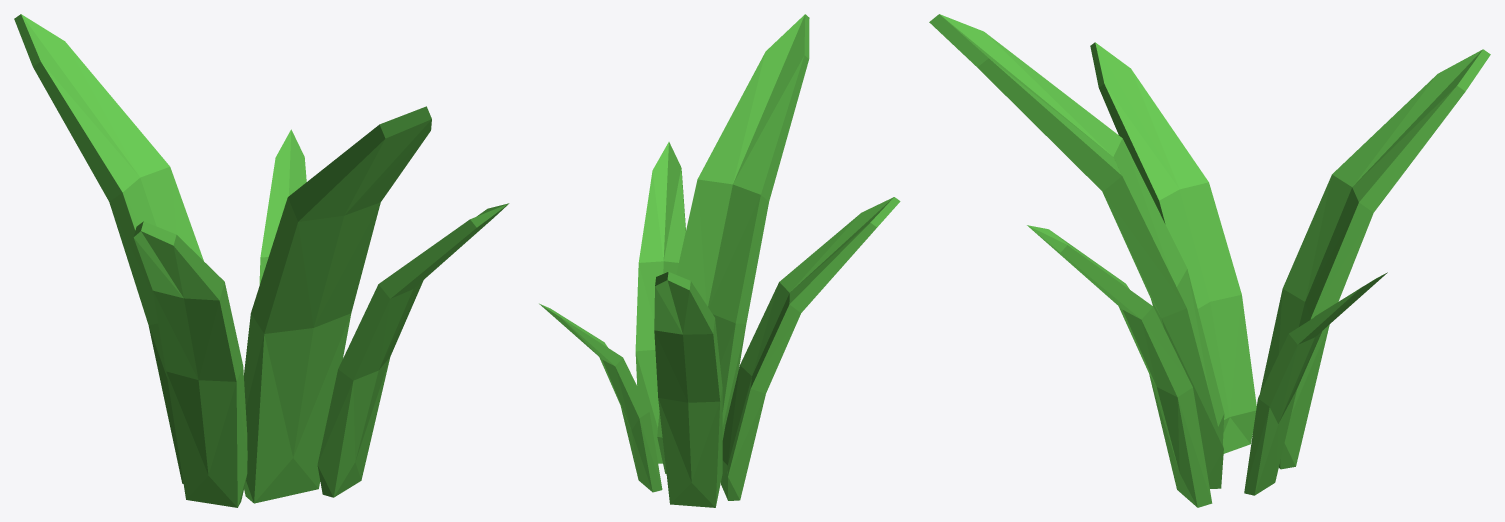
The model's file is Grass 01.fbx.
3 views of the same model, side by side, from view 1: azimuth 30°, elevation 25°; view 2: azimuth 150°, elevation 25°; view 3: azimuth 270°, elevation 25° (orthographic). The views are drawn at different scales.
Visible parts, largest first — view 1: Grass 01; view 2: Grass 01; view 3: Grass 01.
Part boxes in pixels (x1,y1,x2,y2): Grass 01: (14, 14, 509, 507); Grass 01: (539, 14, 900, 507); Grass 01: (929, 14, 1490, 507).
Bounding box in the file's own units: 54.32 × 75.97 × 83.95.
